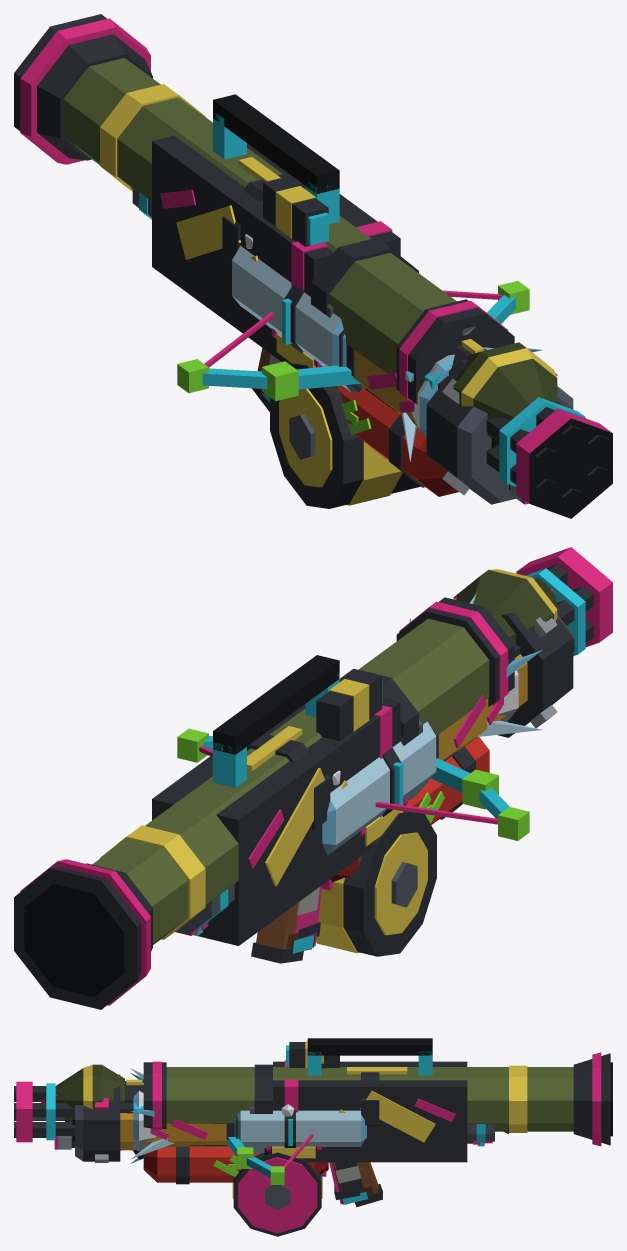
Rendered from weapons.glb.
3 renders of one model, top to bottom at view 1: azimuth 30°, elevation 25°; view 2: azimuth 150°, elevation 25°; view 3: azimuth 270°, elevation 25°, orthographic. The views are drawn at different scales.
Visible parts, largest first — view 1: w_rocket, w_gatling, spin_gatling, w_cannon, w_cryo, w_banana, w_flame; view 2: w_rocket, w_gatling, w_cannon, w_cryo, spin_gatling, w_banana, w_flame, w_tesla, drum_grenade; view 3: w_rocket, w_gatling, w_cryo, w_cannon, w_flame, spin_gatling, w_banana, w_tesla, drum_grenade, w_grenade, w_rail.
Part boxes in pixels (<box>): w_rocket: <box>14,14,557,440</box>; w_gatling: <box>131,94,420,508</box>; spin_gatling: <box>346,344,612,518</box>; w_cannon: <box>252,330,573,504</box>; w_cryo: <box>232,234,542,461</box>; w_banana: <box>177,281,529,401</box>; w_flame: <box>264,385,458,496</box>; w_rocket: <box>14,569,557,1009</box>; w_gatling: <box>152,655,436,956</box>; w_cannon: <box>251,597,573,963</box>; w_cryo: <box>193,593,542,953</box>; spin_gatling: <box>436,547,612,758</box>; w_banana: <box>177,728,529,953</box>; w_flame: <box>175,737,489,954</box>; w_tesla: <box>247,726,302,771</box>; drum_grenade: <box>360,796,408,846</box>; w_rocket: <box>38,1041,612,1200</box>; w_gatling: <box>232,1038,508,1236</box>; w_cryo: <box>130,1068,484,1204</box>; w_cannon: <box>72,1074,382,1207</box>; w_flame: <box>133,1141,492,1204</box>; spin_gatling: <box>14,1081,234,1142</box>; w_banana: <box>227,1134,368,1204</box>; w_tesla: <box>334,1067,407,1190</box>; drum_grenade: <box>264,1146,321,1158</box>; w_grenade: <box>321,1166,361,1183</box>; w_rail: <box>54,1095,479,1204</box>.
Bounding box in the file's own units: 0.51 × 0.435 × 1.29.
